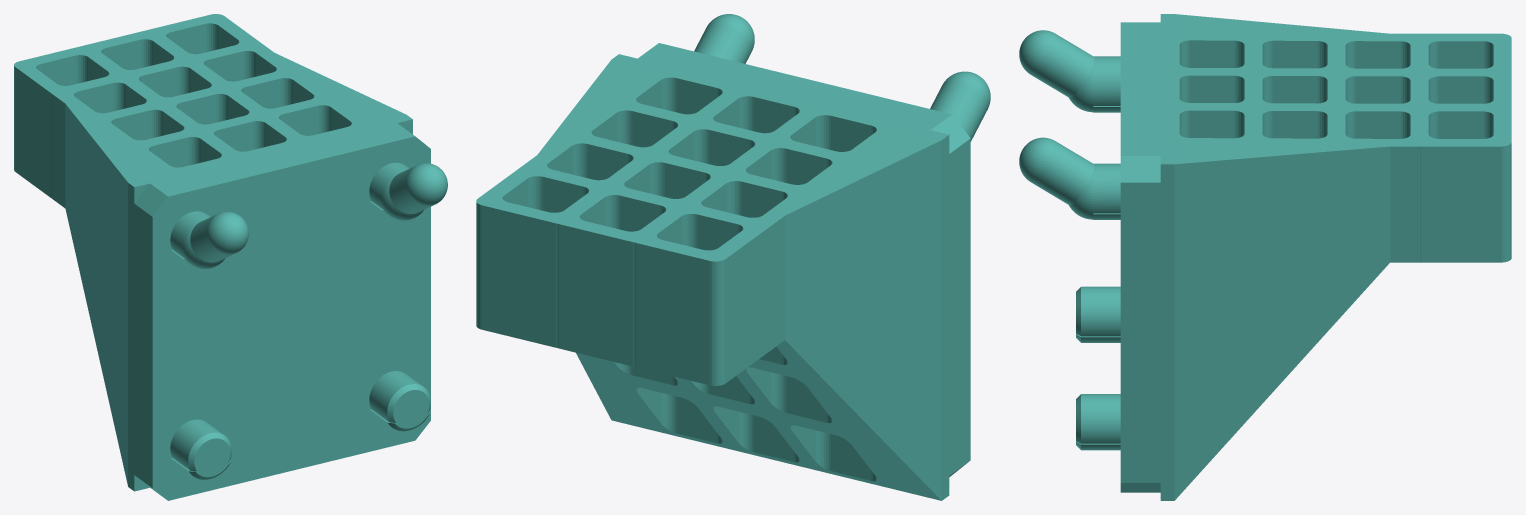
3 renders of one model, left to right at view 1: azimuth 30°, elevation 25°; view 2: azimuth 150°, elevation 25°; view 3: azimuth 270°, elevation 25°, orthographic. The views are drawn at different scales.
Visible parts, largest first — view 1: Actual holder mesh; view 2: Actual holder mesh; view 3: Actual holder mesh.
Part boxes in pixels (x1,y1,x2,y2): Actual holder mesh: (14,14,447,500); Actual holder mesh: (476,14,990,500); Actual holder mesh: (1019,14,1511,500).
Bounding box in the file's own units: 0.0356 × 0.0374 × 0.0492.
